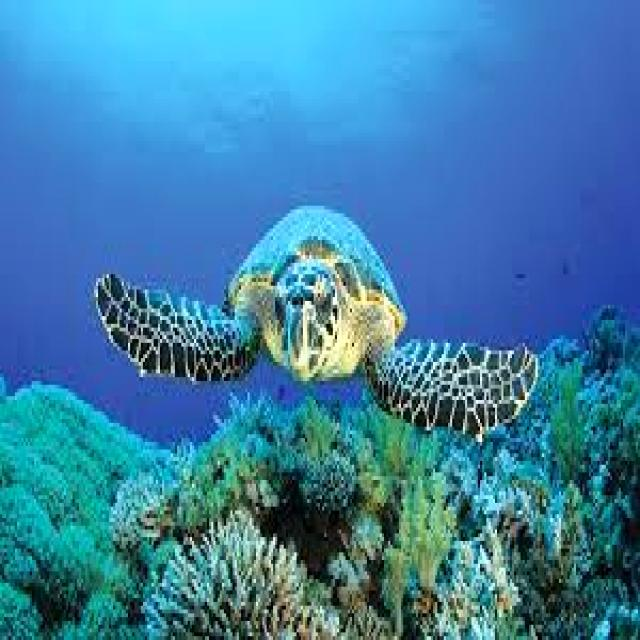Sea turtle: (91, 209, 538, 447)
